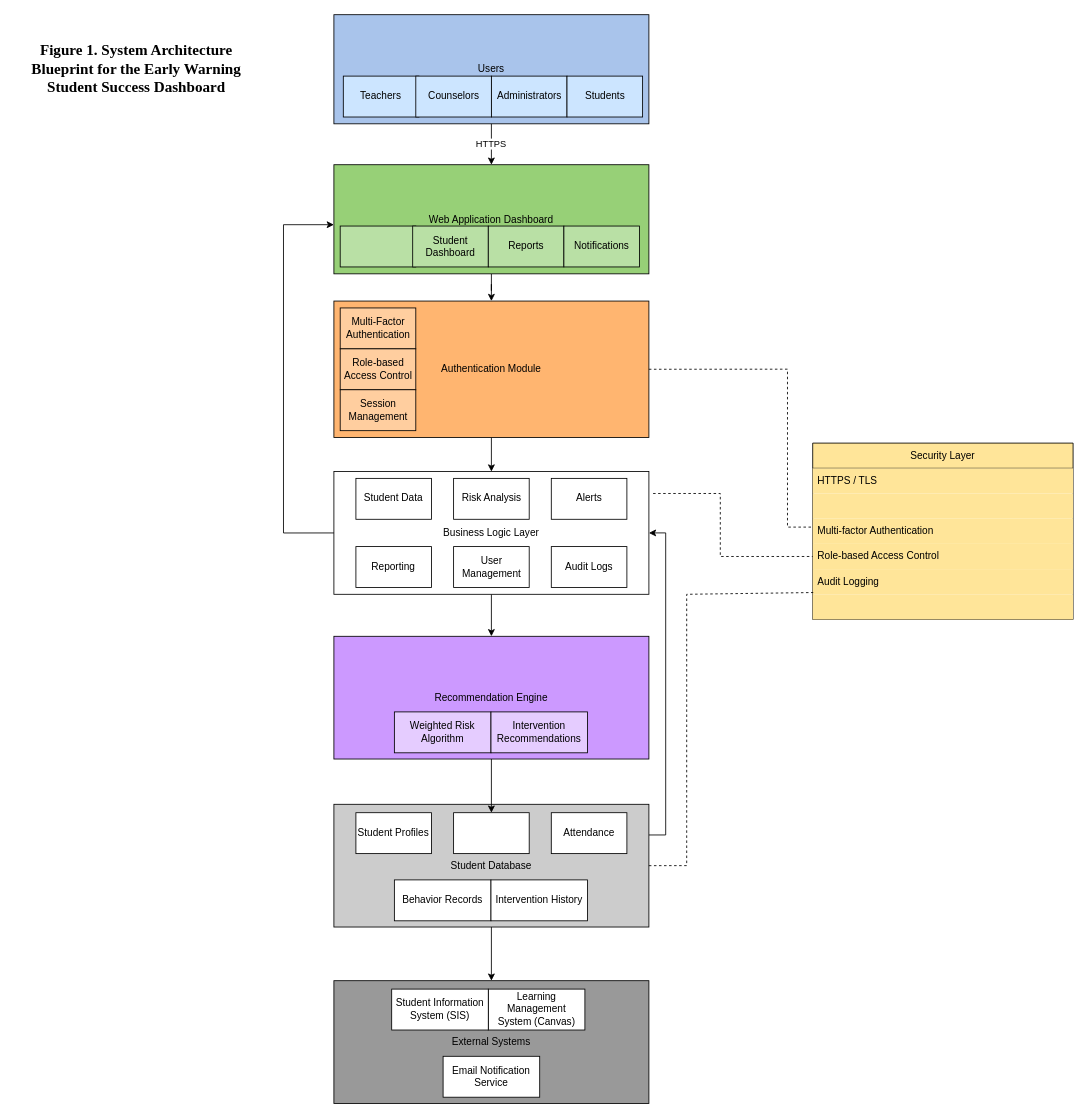
Some shapes in this 1088 by 1119 pixel diagram are drawn without their labels. Each missing label, with the centre of its shape:
AES-256 Encryption: (942,505)
Grades: (491,833)
Login: (377,246)
OWASP Top 10 Controls: (942,606)
